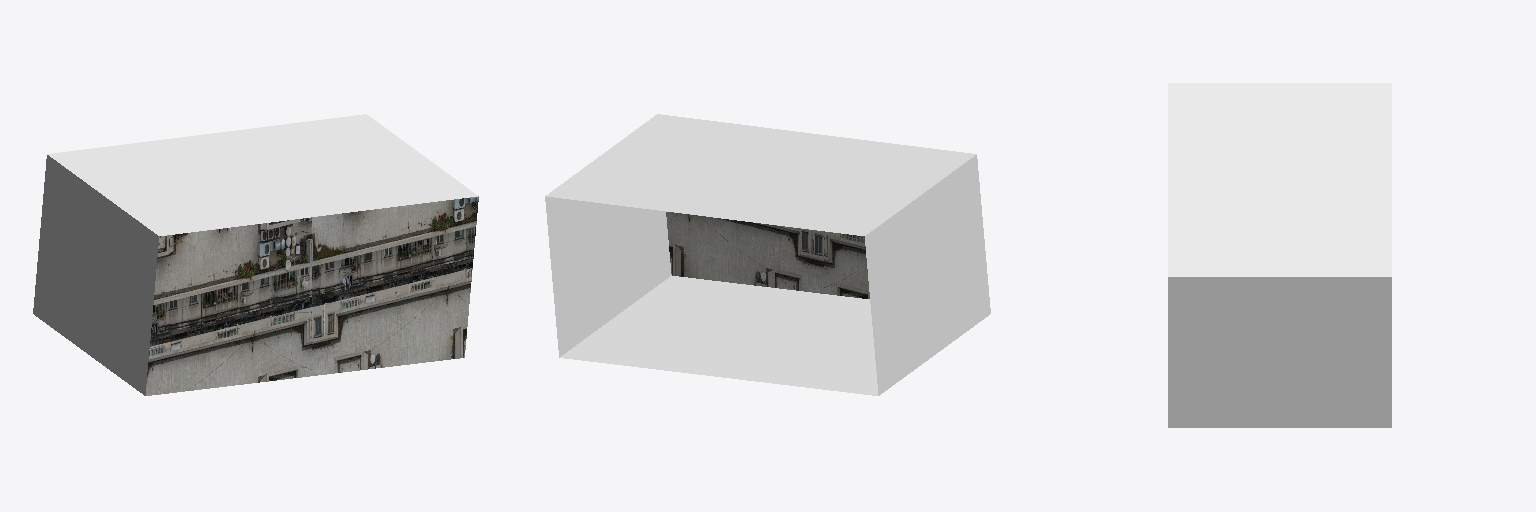
3 renders of one model, left to right at view 1: azimuth 30°, elevation 25°; view 2: azimuth 150°, elevation 25°; view 3: azimuth 270°, elevation 25°, orthographic.
Visible parts, largest first — view 1: Building; view 2: Building; view 3: Building.
Boxes of the visible parts, x1,y1,x2,y2 form: Building: [33, 114, 478, 395]; Building: [545, 114, 990, 395]; Building: [1168, 83, 1391, 427].
Size of the model in its own units: 35.98 by 20.19 by 21.
Materials: 2 (1 with a texture image).